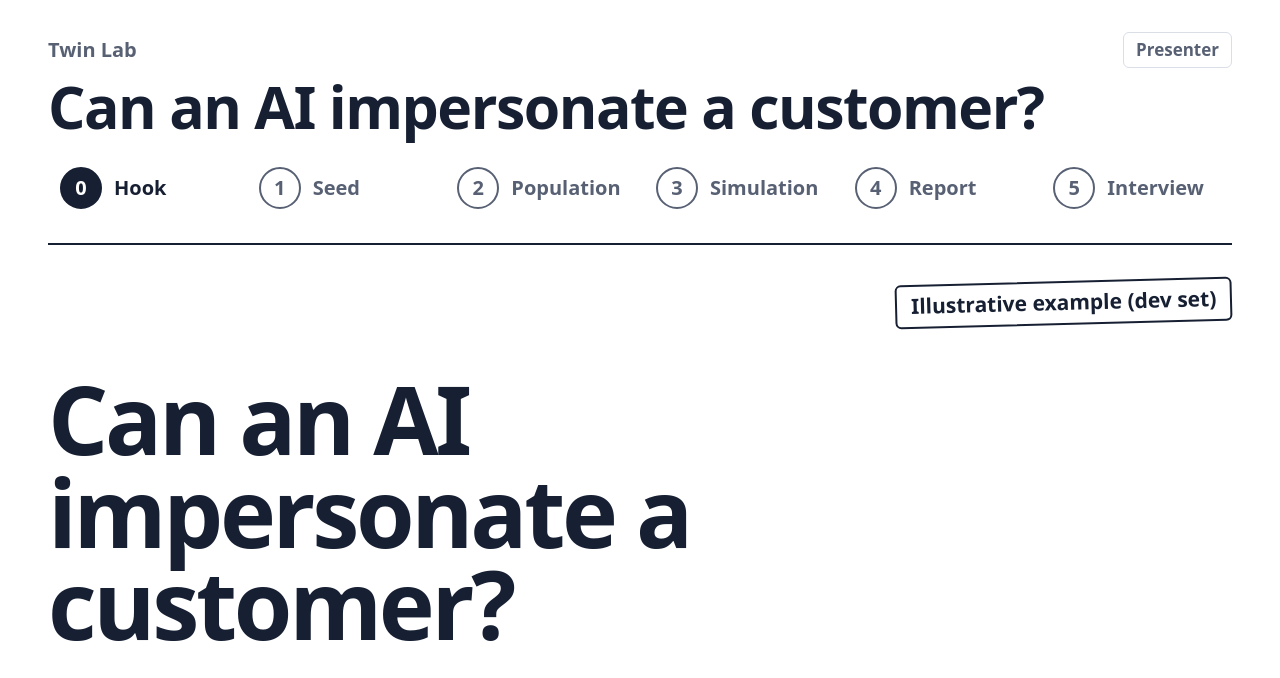
Test: Step 1 Seed › shows real MIND as the data source and the ExperimentConfig defaults
Step 1. Click the button "1 Seed" → {"x": 342, "y": 188}, box [247, 157, 437, 219]
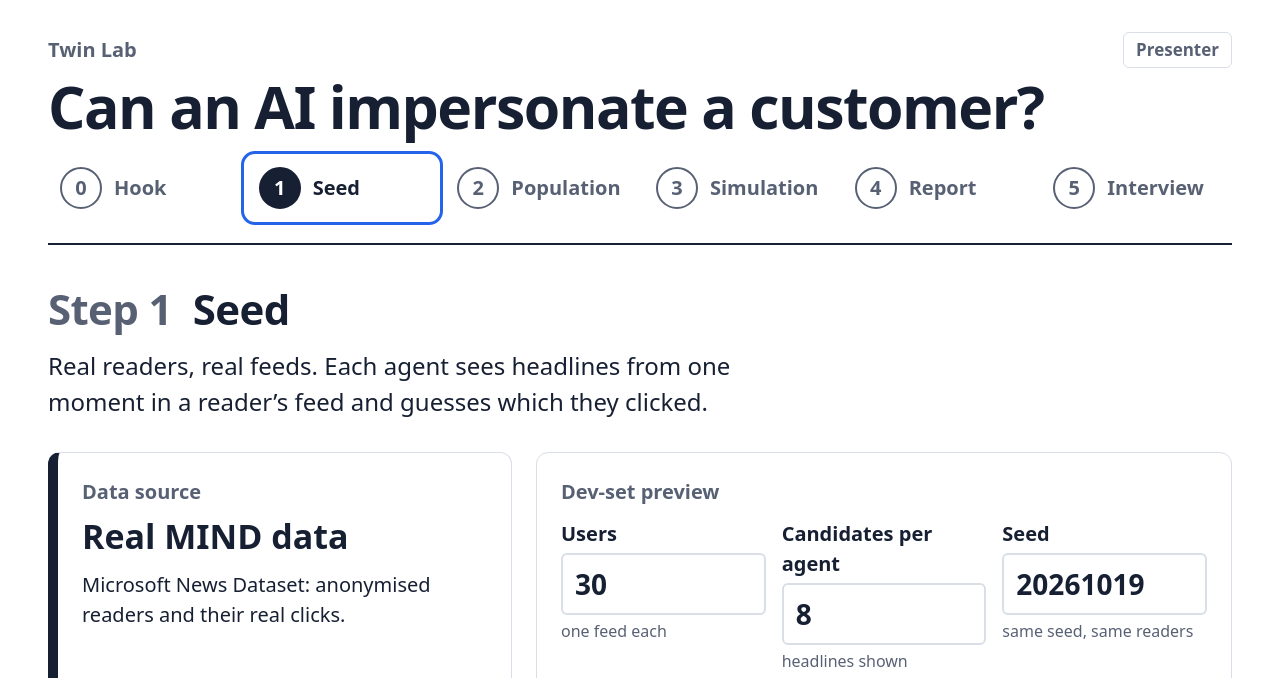
Result: the heading "Step 1 Seed" is shown at [48, 280, 290, 337]
Result: the text "Real MIND data" is shown at [82, 513, 349, 559]
Result: the number field labelled "Users one feed each" holds "30" at [561, 553, 766, 615]
